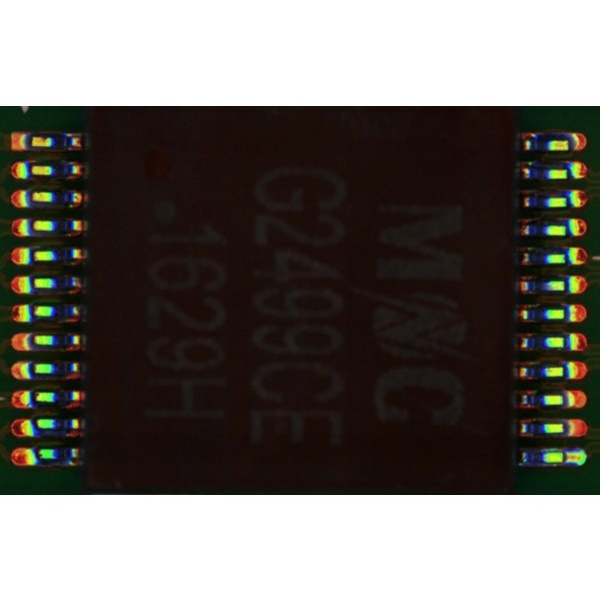Bad_podu: (560, 453, 577, 462)
